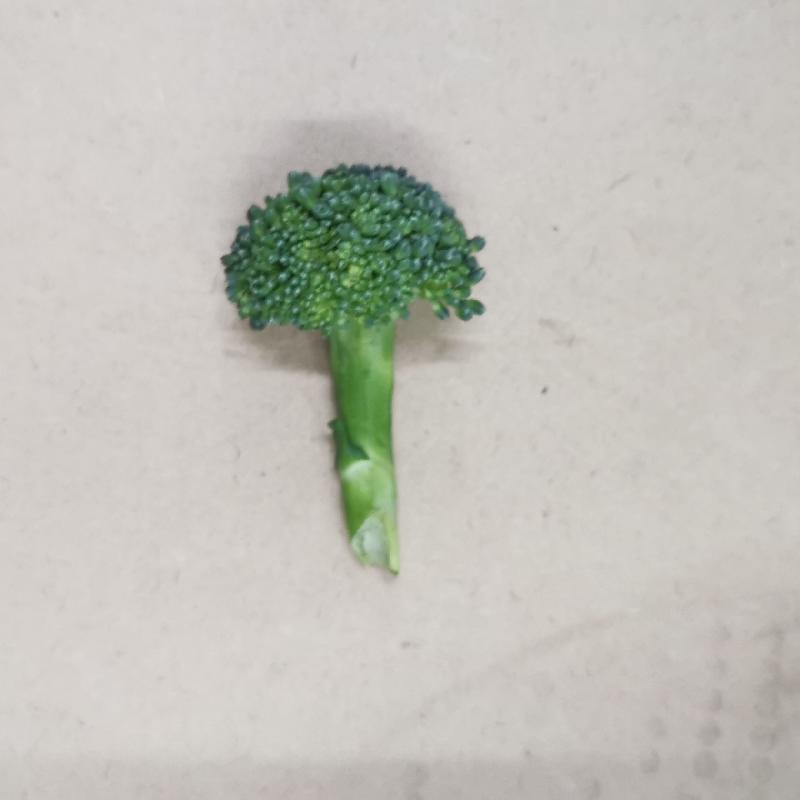broccoli: (214, 159, 494, 581)
